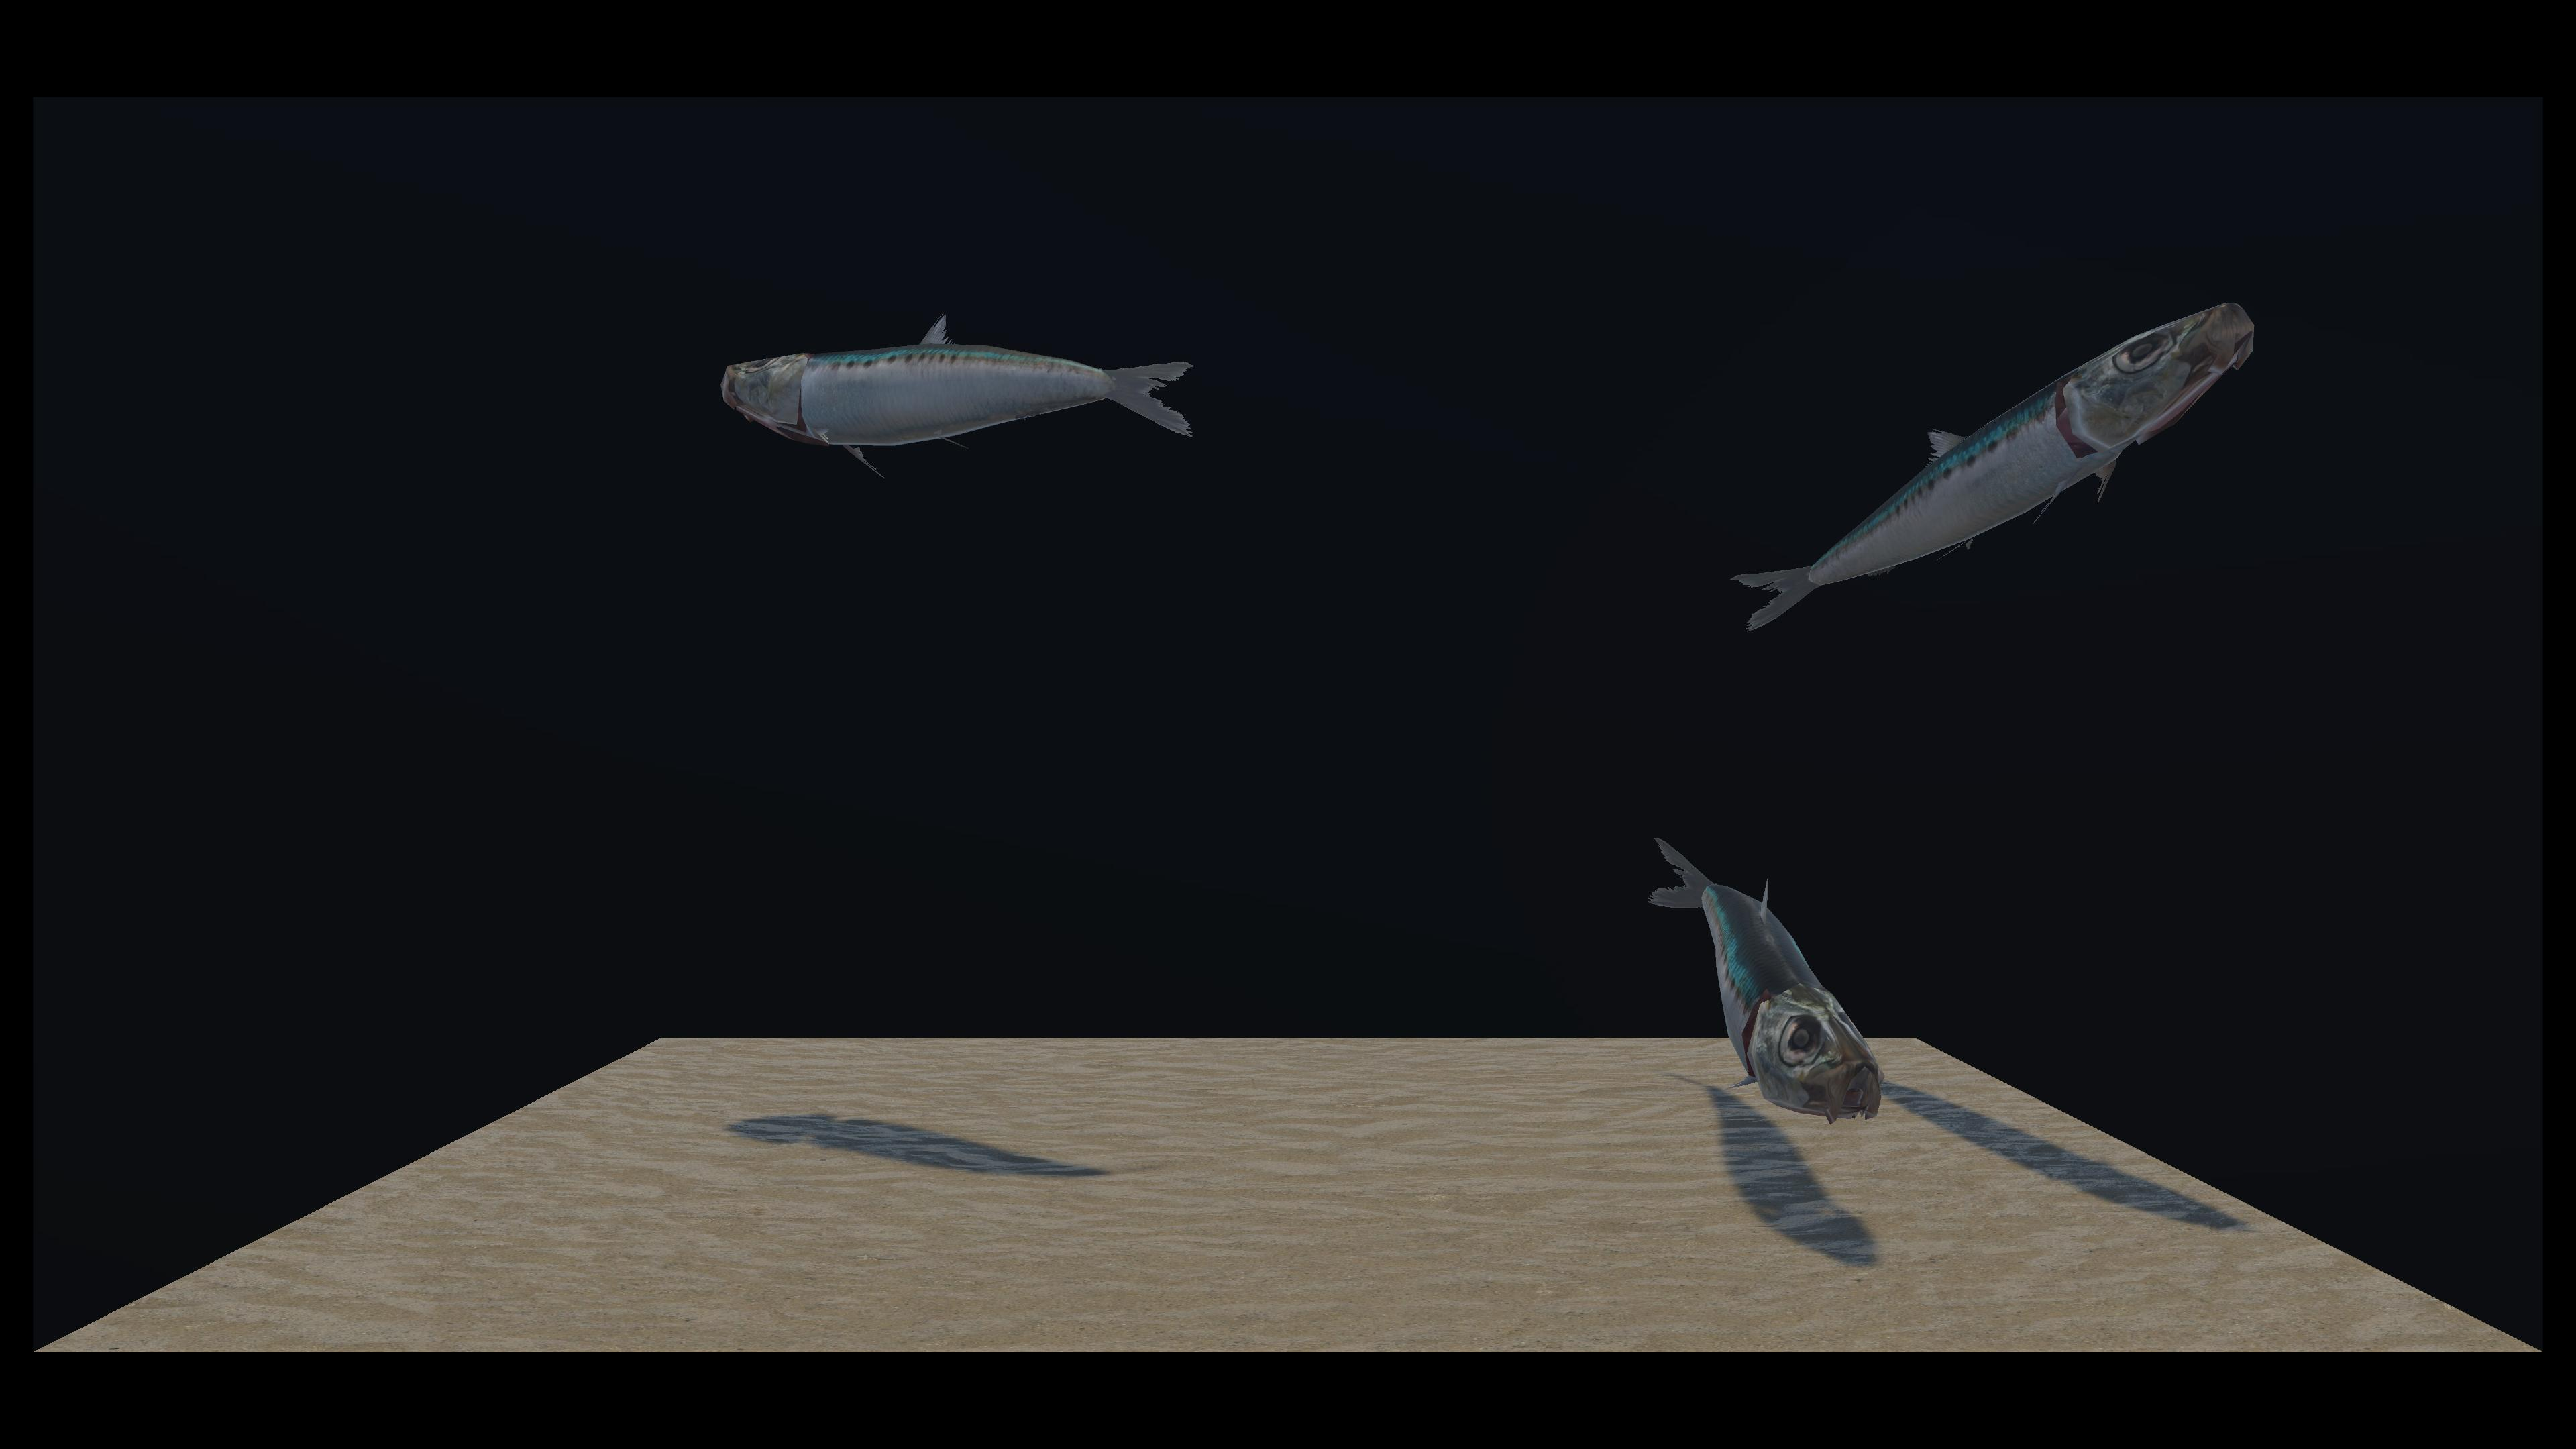Sardine_Front: (548, 469, 1861, 1095), (791, 306, 2222, 628), (738, 318, 1189, 487)
